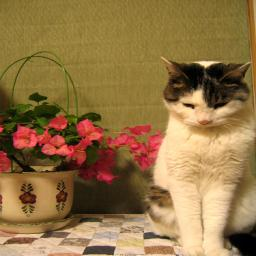catnose: (197, 120, 213, 125)
